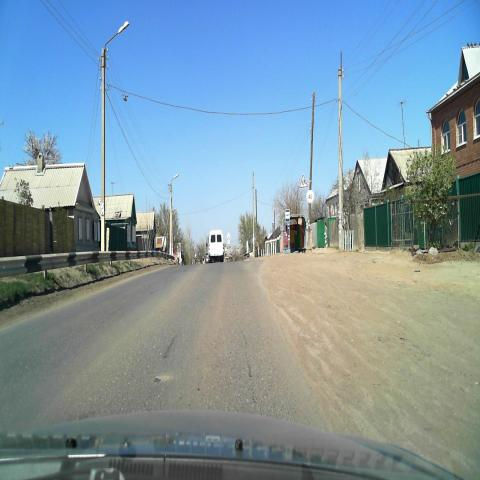1_23: (298, 174, 308, 189)
3_24: (306, 189, 314, 203)
5_16: (284, 209, 290, 224)
